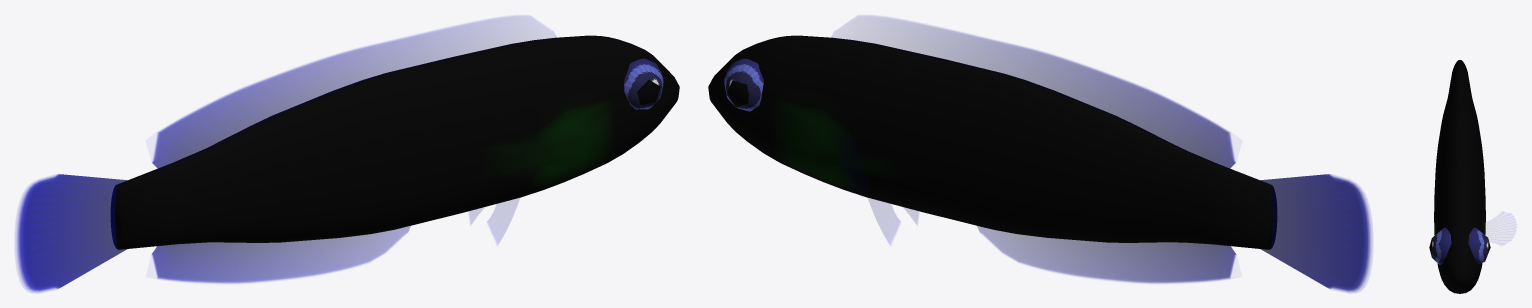
The model's file is dottyback_lod1.glb.
3 views of the same model, side by side, from view 1: azimuth 30°, elevation 25°; view 2: azimuth 150°, elevation 25°; view 3: azimuth 270°, elevation 25° (orthographic). The views are drawn at different scales.
Parts seen in each view (by area): view 1: Body, FinDorsal, FinCaudal, FinAnal, EyeR, FinPelvicR; view 2: Body, FinDorsal, FinCaudal, FinAnal, EyeL, FinPelvicL; view 3: Body, EyeR, EyeL.
Part boxes in pixels (x1,y1,x2,y2): Body: (111, 35, 679, 249); FinDorsal: (152, 16, 556, 168); FinCaudal: (15, 174, 128, 292); FinAnal: (151, 226, 410, 283); EyeR: (624, 58, 664, 109); FinPelvicR: (487, 198, 519, 244); Body: (708, 35, 1276, 249); FinDorsal: (831, 16, 1235, 168); FinCaudal: (1259, 174, 1372, 292); FinAnal: (977, 226, 1236, 283); EyeL: (723, 58, 763, 111); FinPelvicL: (868, 198, 900, 244); Body: (1434, 60, 1485, 293); EyeR: (1429, 227, 1451, 264); EyeL: (1468, 227, 1490, 263).
Size of the model in its own units: 1 by 0.3172 by 0.2143.
4 materials, 3 textured.
